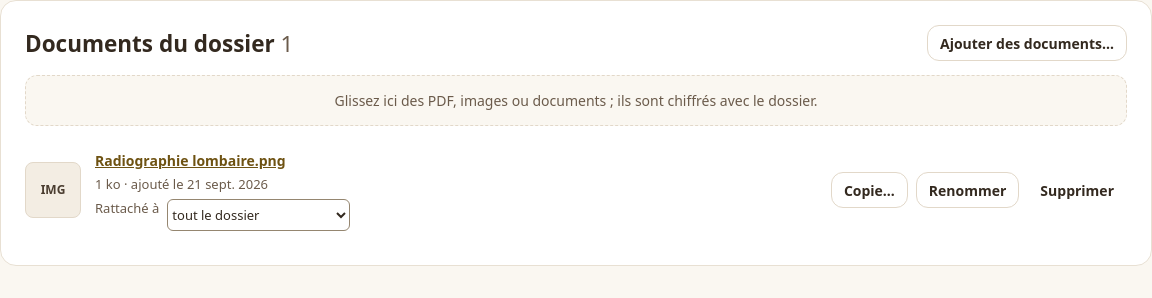
pièces jointes › renomme un document
Expected: the button "Radiographie lombaire.png" is shown, [95,150,817,171]
Click the button with aria-label "Renommer Radiographie lombaire.png". click: (968, 190)
box: [916,172,1019,208]
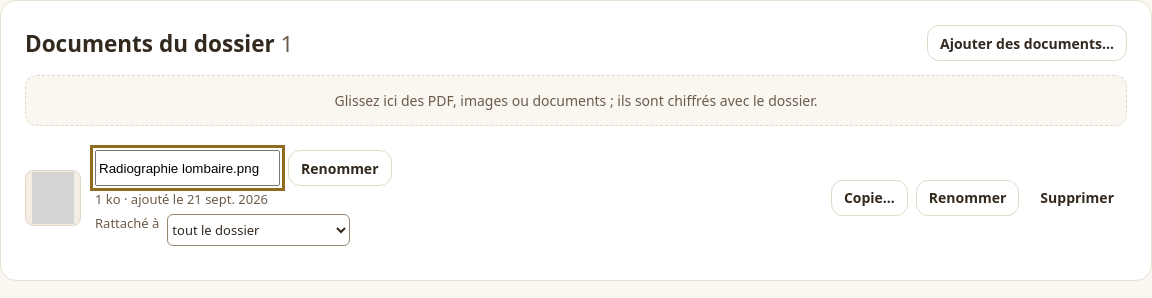
Replace the text in the field named "Nouveau nom" with "Radio lombaire 2025.png". click: (188, 168)
box: [95,150,280,186]
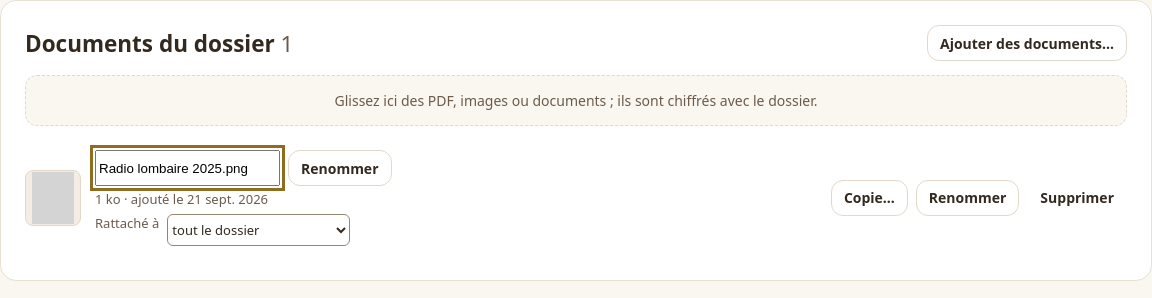
Click the 1st button "Renommer". click: (340, 168)
box: [288,150,392,186]
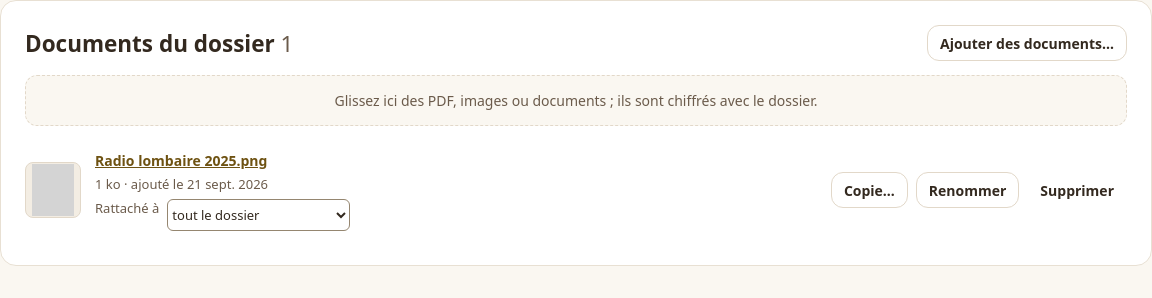
Result: the button "Radio lombaire 2025.png" is shown at [95,150,817,171]
